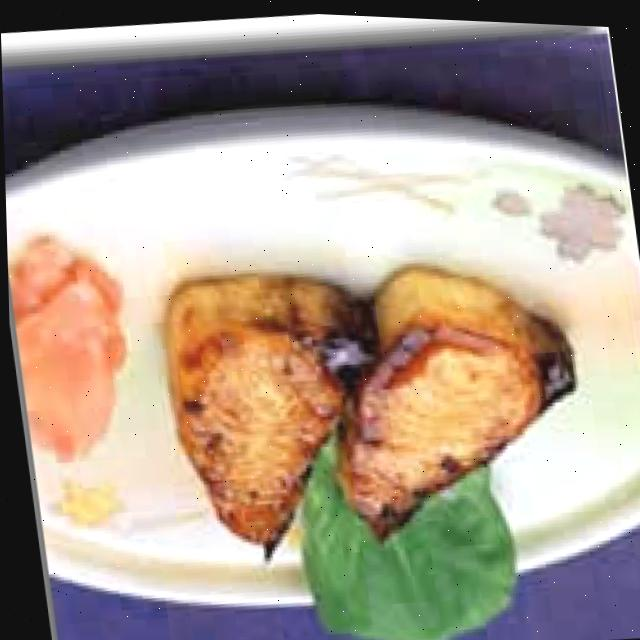熟制海鲜: (137, 181, 592, 574)
